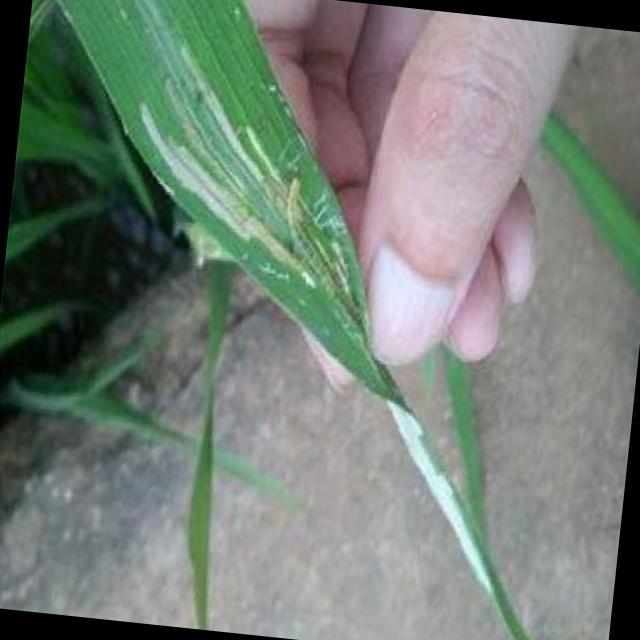leaf-folder: (266, 160, 360, 316)
